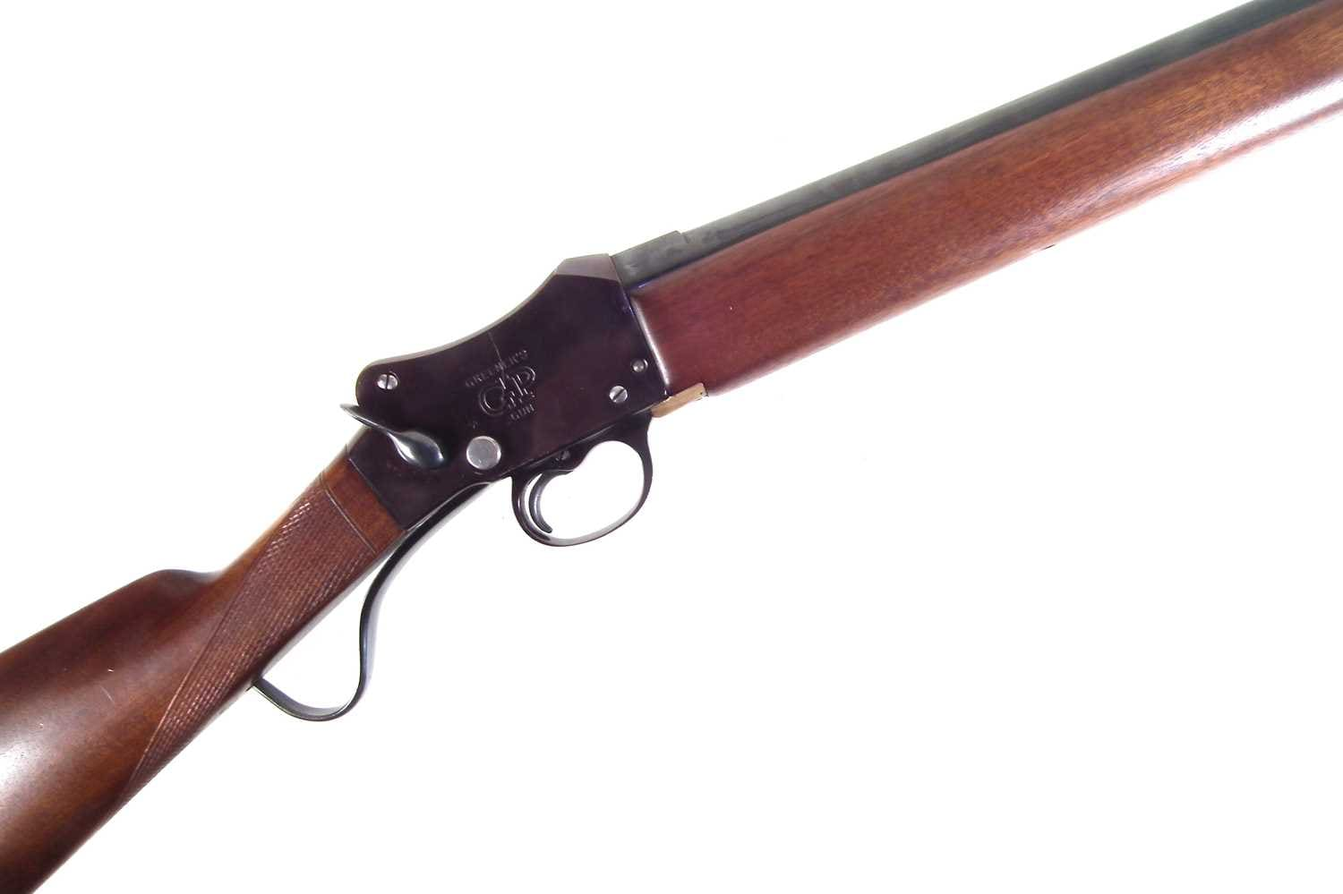GUN: (1, 1, 1343, 894)
